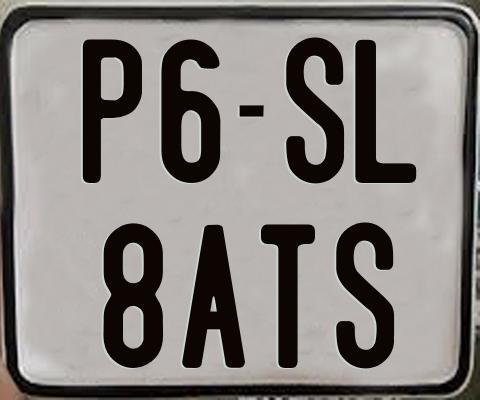6: (161, 39, 223, 186)
8: (101, 222, 163, 369)
A: (182, 223, 250, 368)
L: (353, 39, 419, 183)
P: (80, 38, 145, 187)
S: (334, 222, 398, 371), (286, 35, 344, 185)
T: (260, 221, 317, 367)
